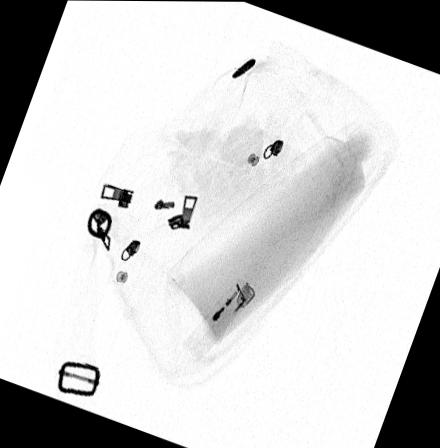Lighter: (183, 274, 257, 359)
